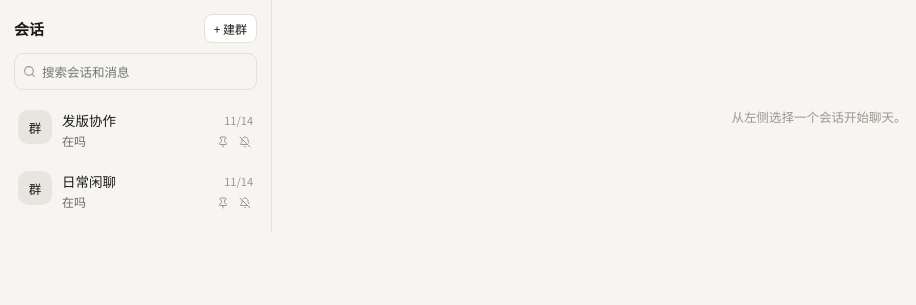
会话搜索框 › 会话标题命中时照旧显示会话，两组结果并存
Type "发版" into the field labelled "搜索会话和消息". click: (136, 72)
box: top-left (14, 53), bottom-right (257, 90)
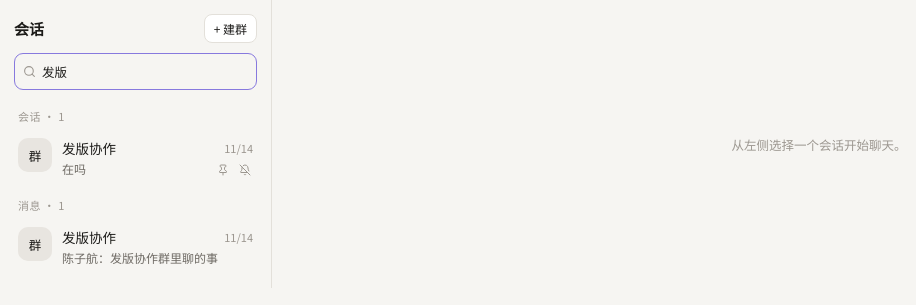
Expected: the text "会话 · 1" is shown, top-left (18, 108), bottom-right (65, 124)
Expected: the text "陈子航：发版协作群里聊的事" is shown, top-left (62, 249), bottom-right (218, 266)
